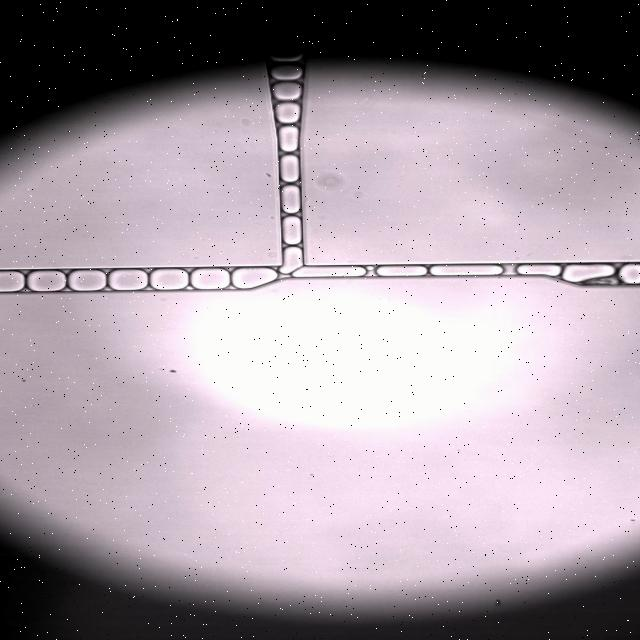L: (271, 82, 301, 101), (282, 216, 301, 245), (282, 247, 303, 273), (516, 264, 561, 276), (275, 103, 300, 124), (278, 126, 298, 152), (280, 155, 299, 182), (282, 185, 300, 213), (376, 266, 426, 276), (271, 65, 302, 80), (619, 264, 640, 284)
S: (563, 265, 614, 283), (232, 268, 276, 288), (26, 270, 65, 291), (292, 266, 365, 277), (108, 270, 148, 290), (68, 270, 106, 291), (431, 265, 502, 276), (191, 269, 228, 289), (151, 269, 188, 289), (0, 271, 24, 292)
